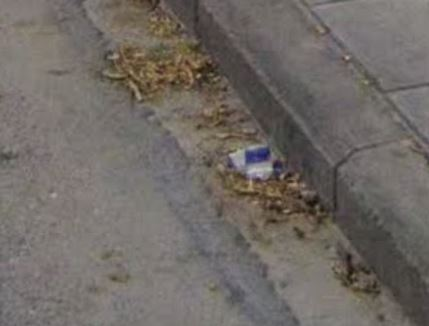trash: (215, 133, 297, 192)
